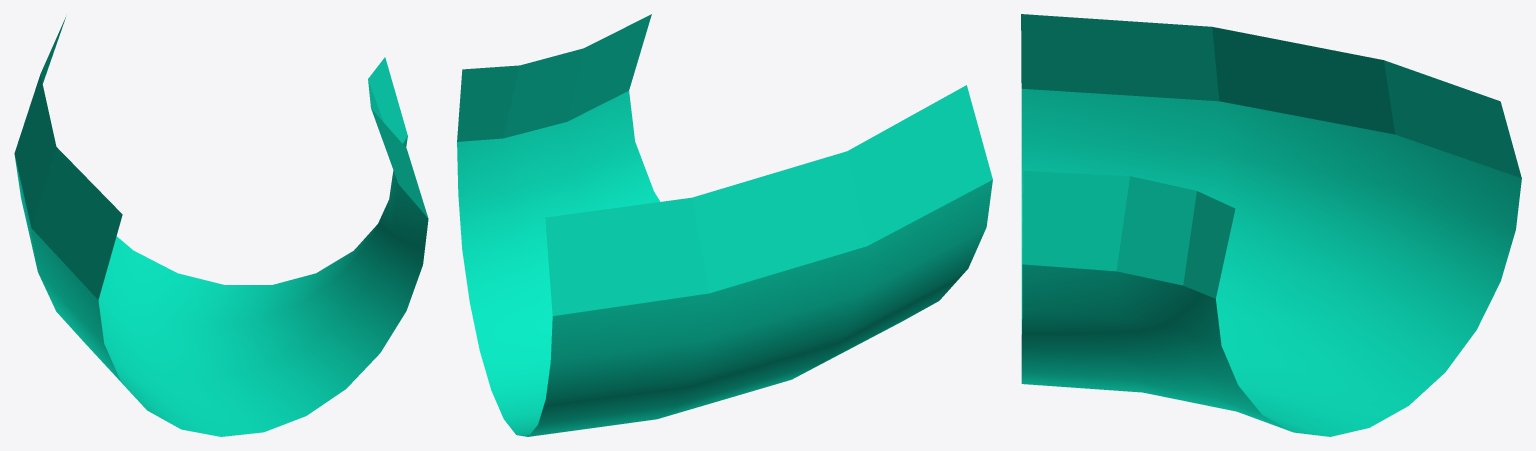
File: Pipe_Collider_Turn_45_A.fbx
3 views of the same model, side by side, from view 1: azimuth 30°, elevation 25°; view 2: azimuth 150°, elevation 25°; view 3: azimuth 270°, elevation 25° (orthographic). The views are drawn at different scales.
Visible parts, largest first — view 1: Pipe_Collider_Turn_45_A; view 2: Pipe_Collider_Turn_45_A; view 3: Pipe_Collider_Turn_45_A.
Boxes of the visible parts, left/top/right/bottom form: Pipe_Collider_Turn_45_A: left=14, top=17, right=428, bottom=436; Pipe_Collider_Turn_45_A: left=457, top=14, right=992, bottom=436; Pipe_Collider_Turn_45_A: left=1021, top=14, right=1521, bottom=436.
Bounding box in the file's own units: 4.1 × 2.48 × 4.09.
